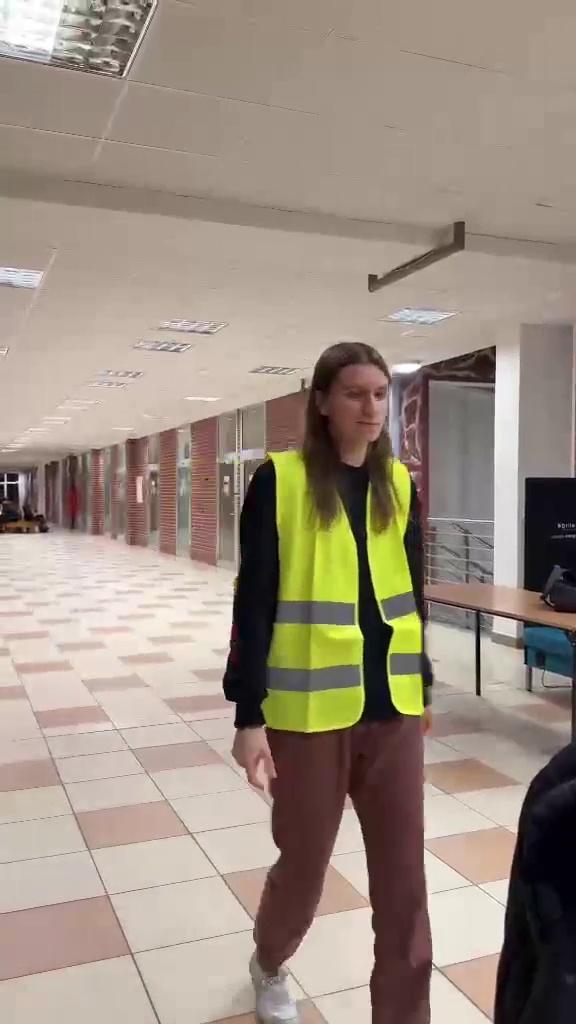vest: (239, 346, 436, 982)
